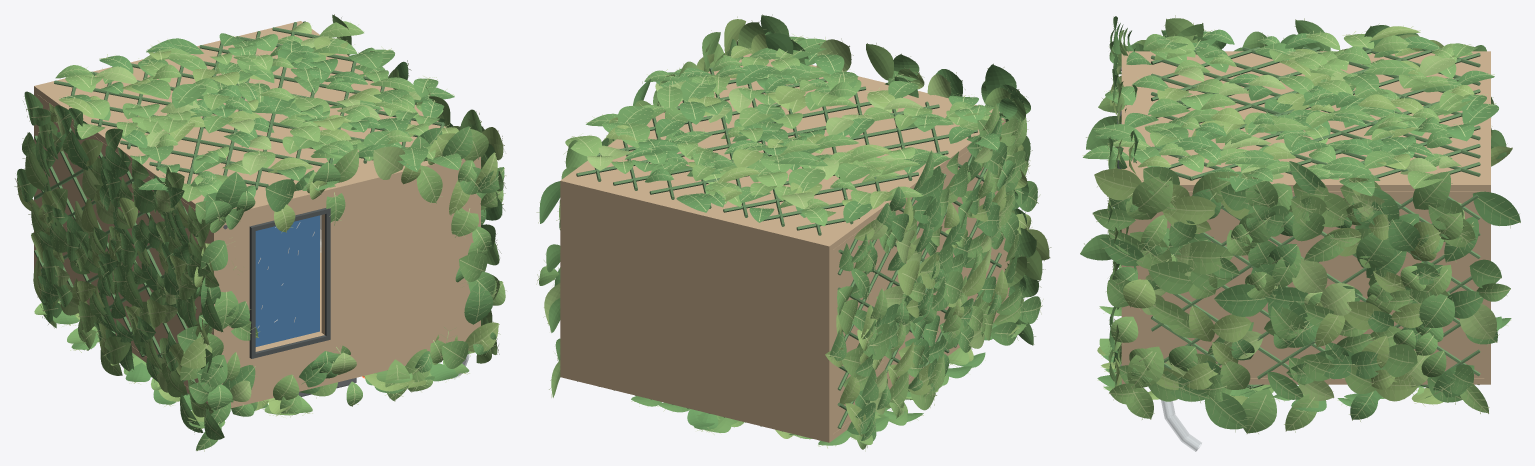
File: Campfire_Aftercare_Leaf_Camouflage.glb
3 renders of one model, left to right at view 1: azimuth 30°, elevation 25°; view 2: azimuth 150°, elevation 25°; view 3: azimuth 270°, elevation 25°, orthographic. The views are drawn at different scales.
Visible parts, largest first — view 1: Removable roof / right piece, Plywood / rear wall 330x371.6x7, Artificial leaf cladding / back / leaves05, Artificial leaf cladding / left / leaves05, Artificial leaf cladding / back / leaves03, Artificial leaf cladding / left / leaves01, Rainwater collector / blue recessed surface, Artificial leaf cladding / left / leaves03, Artificial leaf cladding / back / leaves01, Artificial leaf cladding / top / leaves05, Artificial leaf cladding / back / leaves02, Raised leaf veins / left (+26 smaller); view 2: Plywood / bottom panel 330x230x7, Plywood / rear wall 330x371.6x7, Artificial leaf cladding / left / leaves05, Artificial leaf cladding / back / leaves03, Artificial leaf cladding / back / leaves05, Artificial leaf cladding / left / leaves01, Artificial leaf cladding / back / leaves01, Artificial leaf cladding / left / leaves03, Artificial leaf cladding / back / leaves02, Raised leaf veins / left, Raised leaf veins / back, Artificial leaf cladding / left / leaves04 (+20 smaller); view 3: Artificial leaf cladding / right / leaves02, Artificial leaf cladding / right / leaves03, Artificial leaf cladding / right / leaves01, Raised leaf veins / right, Artificial leaf cladding / right / leaves04, Plywood / right wall 215.6x371.6x7, Plywood / rear wall 330x371.6x7, Artificial leaf cladding / right / leaves05, Artificial leaf cladding / back / leaves05, Artificial leaf cladding / back / leaves03, Artificial leaf cladding / back / leaves01, Artificial leaf cladding / back / leaves02 (+18 smaller).
Boxes of the visible parts, x1=… form: Removable roof / right piece: x1=321, y1=156, x2=480, y2=385; Plywood / rear wall 330x371.6x7: x1=37, y1=24, x2=446, y2=209; Artificial leaf cladding / back / leaves05: x1=103, y1=34, x2=461, y2=190; Artificial leaf cladding / left / leaves05: x1=17, y1=91, x2=224, y2=439; Artificial leaf cladding / back / leaves03: x1=65, y1=21, x2=435, y2=201; Artificial leaf cladding / left / leaves01: x1=38, y1=105, x2=188, y2=371; Rainwater collector / blue recessed surface: x1=255, y1=215, x2=319, y2=346; Artificial leaf cladding / left / leaves03: x1=25, y1=151, x2=219, y2=417; Artificial leaf cladding / back / leaves01: x1=61, y1=33, x2=454, y2=197; Artificial leaf cladding / top / leaves05: x1=177, y1=126, x2=504, y2=450; Artificial leaf cladding / back / leaves02: x1=55, y1=36, x2=458, y2=196; Raised leaf veins / left: x1=14, y1=97, x2=222, y2=441; Plywood / bottom panel 330x230x7: x1=560, y1=178, x2=832, y2=442; Plywood / rear wall 330x371.6x7: x1=564, y1=53, x2=1005, y2=249; Artificial leaf cladding / left / leaves05: x1=829, y1=119, x2=1040, y2=409; Artificial leaf cladding / back / leaves03: x1=565, y1=48, x2=1003, y2=222; Artificial leaf cladding / back / leaves05: x1=586, y1=36, x2=986, y2=202; Artificial leaf cladding / left / leaves01: x1=847, y1=115, x2=1013, y2=443; Artificial leaf cladding / back / leaves01: x1=625, y1=53, x2=999, y2=222; Artificial leaf cladding / left / leaves03: x1=837, y1=104, x2=1028, y2=449; Artificial leaf cladding / back / leaves02: x1=611, y1=55, x2=994, y2=226; Raised leaf veins / left: x1=827, y1=104, x2=1043, y2=451; Raised leaf veins / back: x1=569, y1=34, x2=1003, y2=221; Artificial leaf cladding / left / leaves04: x1=825, y1=136, x2=1031, y2=436; Artificial leaf cladding / right / leaves02: x1=1092, y1=166, x2=1510, y2=433; Artificial leaf cladding / right / leaves03: x1=1109, y1=171, x2=1488, y2=430; Artificial leaf cladding / right / leaves01: x1=1100, y1=161, x2=1520, y2=419; Raised leaf veins / right: x1=1092, y1=162, x2=1520, y2=433; Artificial leaf cladding / right / leaves04: x1=1094, y1=168, x2=1440, y2=401; Plywood / right wall 215.6x371.6x7: x1=1128, y1=191, x2=1484, y2=378; Plywood / rear wall 330x371.6x7: x1=1128, y1=51, x2=1484, y2=190; Artificial leaf cladding / right / leaves05: x1=1110, y1=184, x2=1501, y2=429; Artificial leaf cladding / back / leaves05: x1=1083, y1=36, x2=1461, y2=196; Artificial leaf cladding / back / leaves03: x1=1107, y1=32, x2=1472, y2=188; Artificial leaf cladding / back / leaves01: x1=1096, y1=29, x2=1498, y2=191; Artificial leaf cladding / back / leaves02: x1=1143, y1=34, x2=1478, y2=181.
Bounding box in the file's own units: 0.4156 × 0.3511 × 0.4602.
